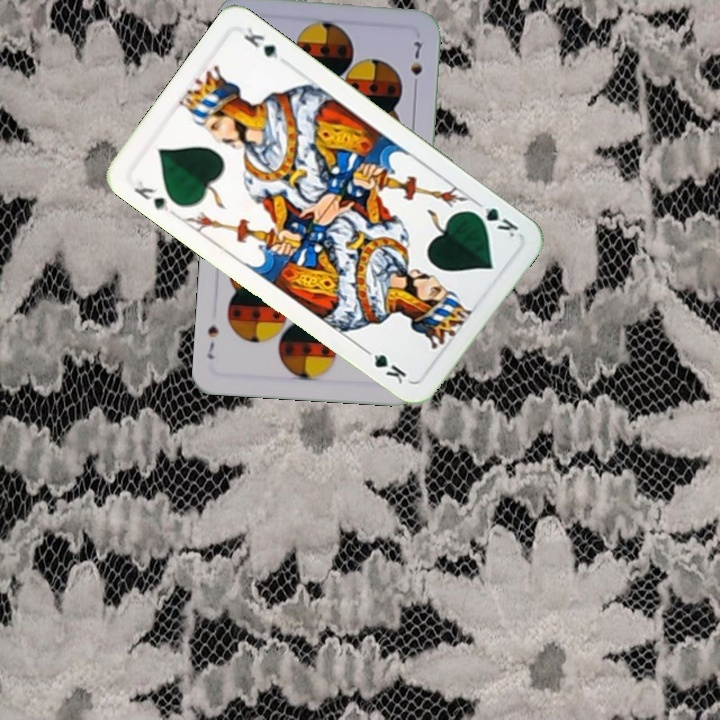GK: (466, 197, 522, 240), (129, 176, 172, 214)
